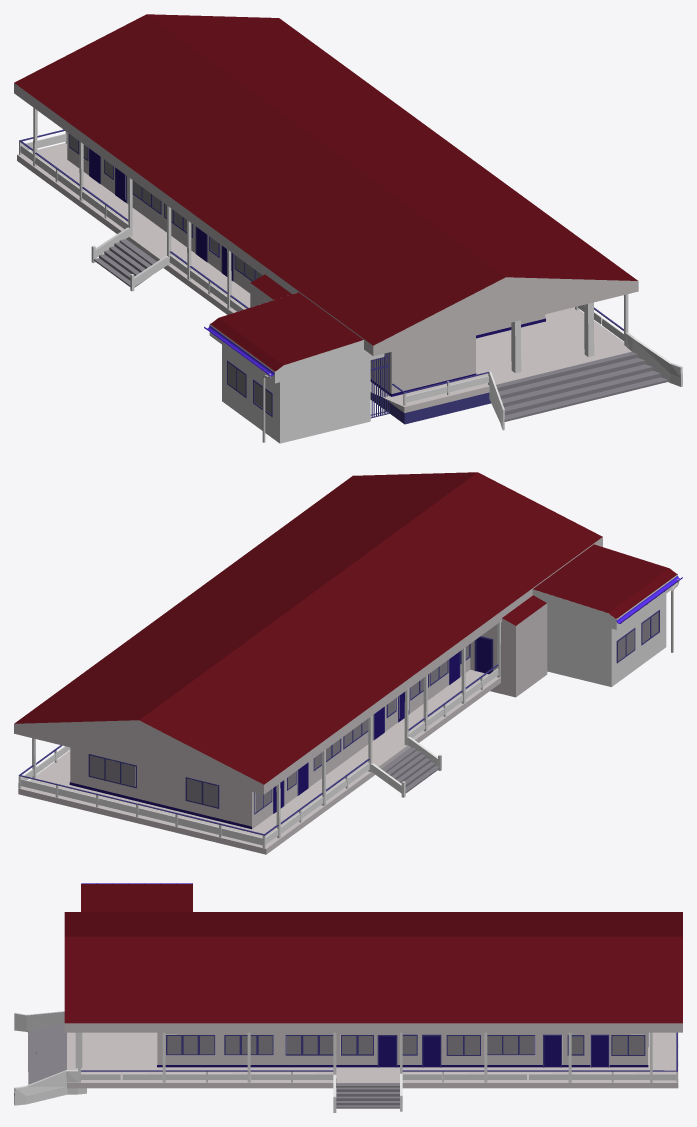
Rendered from Asiva1_UD.glb.
3 views of the same model, one above another, from view 1: azimuth 30°, elevation 25°; view 2: azimuth 150°, elevation 25°; view 3: azimuth 270°, elevation 25° (orthographic). The views are drawn at different scales.
Visible parts, largest first — view 1: Plane.007, Cube.173, Cube.001, Plane.004, Cube.166, Cube.175, under.002, Cube.168, Cube.163, Plane.003, Cube.174; view 2: Plane.007, Cube.173, Plane.004, Cube.001, Cube.175, under.102, Cube.174, under.104, Plane.006; view 3: Plane.007, Cube.001, Plane.004, Cube.173, Cube.166, Cube.201, Cube.168, Plane.006, under.089, under.094, under.100, Cube.164 (+8 smaller).
Boxes of the visible parts, bbox=[...] form: Plane.007: bbox=[14, 14, 638, 356]; Cube.173: bbox=[209, 292, 384, 443]; Cube.001: bbox=[17, 143, 631, 412]; Plane.004: bbox=[67, 132, 545, 393]; Cube.166: bbox=[496, 352, 668, 421]; Cube.175: bbox=[94, 239, 156, 287]; under.002: bbox=[370, 392, 490, 424]; Cube.168: bbox=[625, 332, 682, 386]; Cube.163: bbox=[511, 302, 594, 373]; Plane.003: bbox=[370, 352, 389, 418]; Cube.174: bbox=[91, 227, 168, 291]; Plane.007: bbox=[14, 472, 602, 794]; Cube.173: bbox=[532, 544, 677, 686]; Plane.004: bbox=[70, 595, 547, 828]; Cube.001: bbox=[18, 669, 500, 854]; Cube.175: bbox=[381, 747, 439, 793]; under.102: bbox=[90, 755, 135, 786]; Cube.174: bbox=[370, 736, 441, 797]; under.104: bbox=[187, 779, 217, 807]; Plane.006: bbox=[69, 719, 399, 829]; Plane.007: bbox=[64, 912, 682, 1032]; Cube.001: bbox=[67, 1032, 678, 1088]; Plane.004: bbox=[157, 1032, 647, 1064]; Cube.173: bbox=[81, 884, 192, 911]; Cube.166: bbox=[27, 1022, 66, 1084]; Cube.201: bbox=[336, 1083, 399, 1108]; Cube.168: bbox=[14, 1070, 86, 1105]; Plane.006: bbox=[157, 1065, 648, 1067]; under.089: bbox=[487, 1036, 533, 1054]; under.094: bbox=[167, 1036, 214, 1054]; under.100: bbox=[287, 1036, 333, 1054]; Cube.164: bbox=[14, 1011, 64, 1031].
Size of the model in its own units: 35.71 by 10.83 by 61.3.
